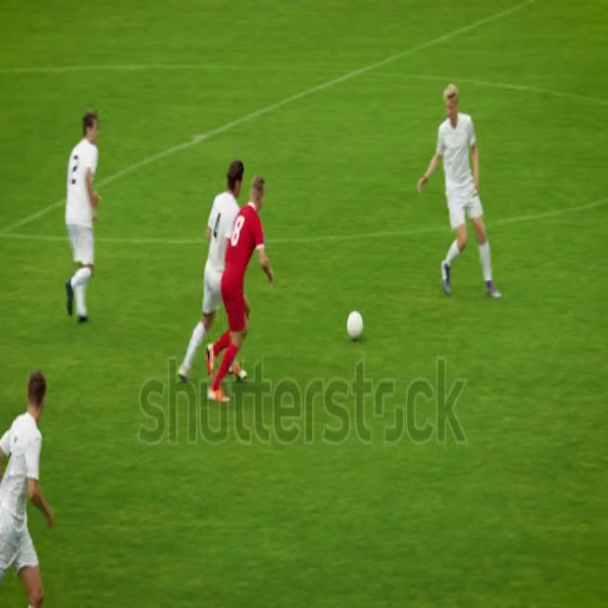ball: (348, 308, 365, 343)
